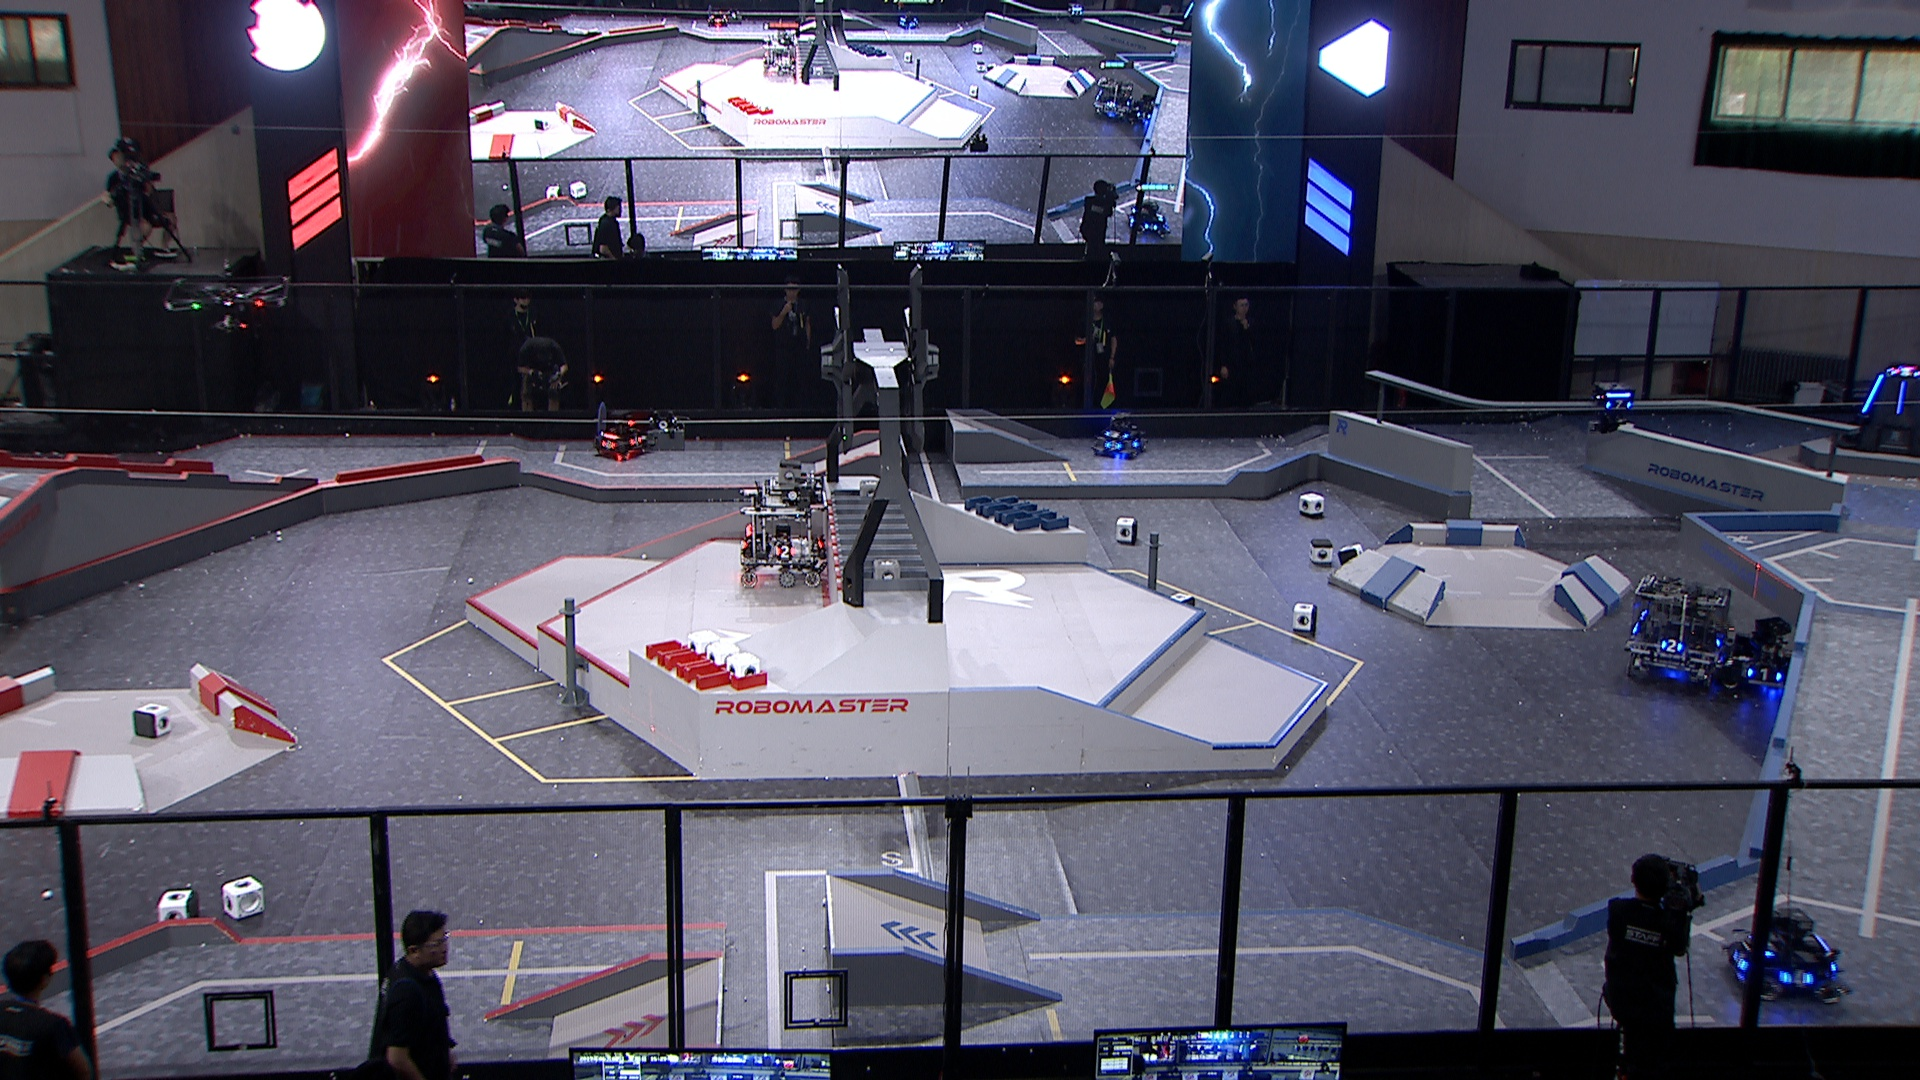armor: (1859, 372, 1884, 415), (1742, 666, 1783, 684), (1776, 969, 1812, 988), (1731, 949, 1753, 972), (1660, 637, 1685, 655), (1894, 378, 1905, 414), (773, 545, 798, 560), (1604, 398, 1633, 410), (597, 439, 618, 452), (1102, 431, 1129, 440), (626, 436, 644, 447), (1105, 440, 1122, 451)
base: (1836, 363, 1920, 458)
car: (1720, 903, 1851, 1007), (1623, 570, 1735, 684), (735, 462, 832, 589), (1713, 615, 1817, 702), (1092, 410, 1149, 460), (593, 407, 647, 458)
ignore: (1091, 74, 1138, 124), (1125, 196, 1171, 237), (760, 29, 798, 73), (1131, 94, 1159, 123), (1172, 1, 1196, 34), (1888, 367, 1920, 378)
watcher: (1585, 381, 1640, 434)
